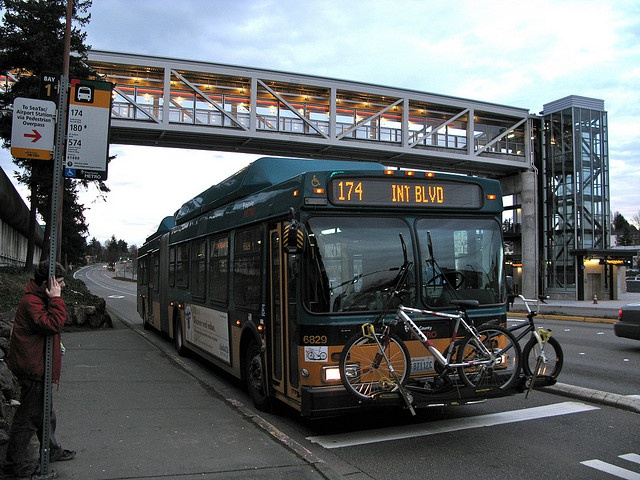non-vehicle: (338, 261, 523, 401), (506, 293, 563, 380)
